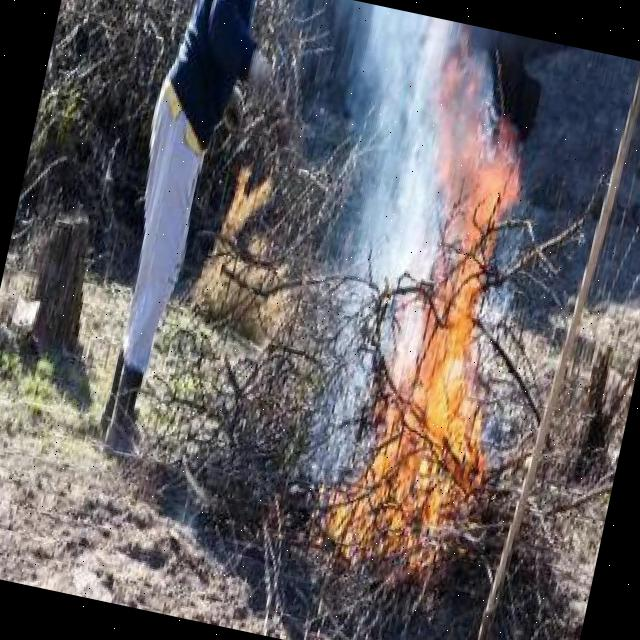fire: (382, 137, 550, 556)
